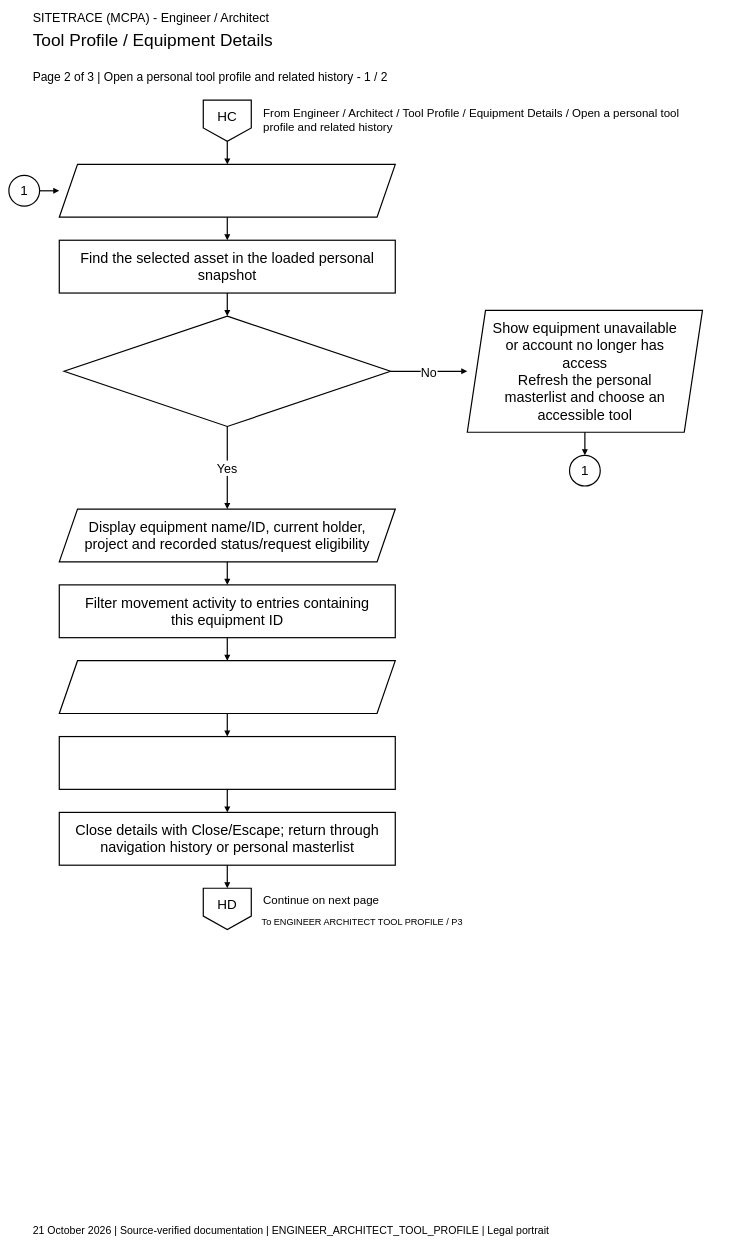
Image size: 747x1248. Some labels were removed from this diagram. Here are the shapes that lost their labels. From the top down, the centre of each, then its label:
At (227,191): "Select Details or open an authorized tool-profile record link".
At (227,371): "Is the asset present and still accessible?".
At (227,687): "Read dated movement actions, actor, reference and summary".
At (227,763): "Open linked movement or select Request tools, Transfer, Return or Report issue".
